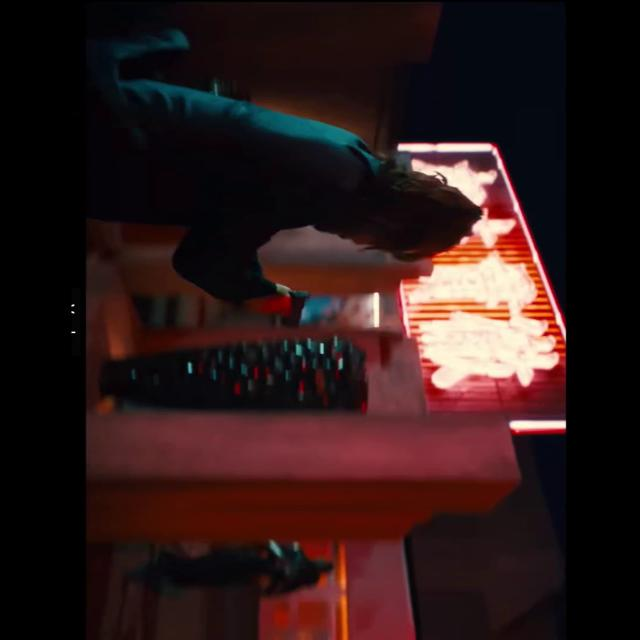weapons: (224, 280, 322, 334)
